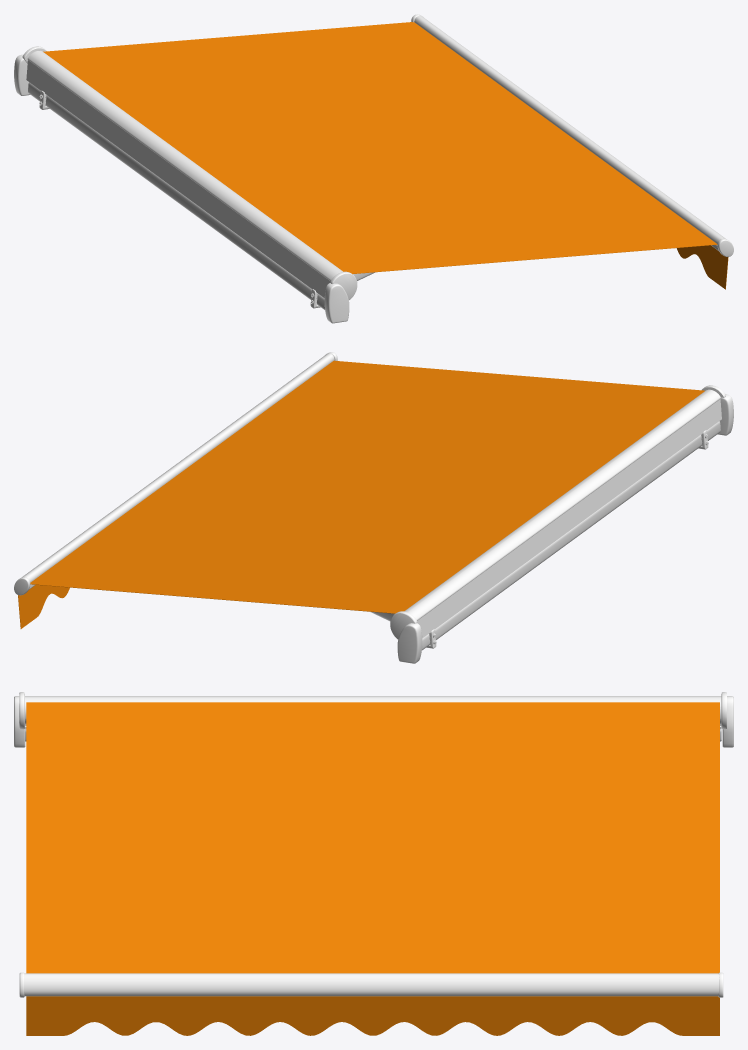
Rendered from Basic.glb.
The picture shows the model from 3 angles, top to bottom: view 1: azimuth 30°, elevation 25°; view 2: azimuth 150°, elevation 25°; view 3: azimuth 270°, elevation 25°; orthographic projection. The views are drawn at different scales.
Visible parts, largest first — view 1: Plane.001, Circle.009, Circle.001, Stem, Plane, Plane.002, Circle; view 2: Plane.001, Circle.009, Circle.001, Stem, Plane, Plane.002, Circle; view 3: Plane.001, Plane.002, Circle.001, Circle.009, Plane.
Part boxes in pixels (bbox=[...]): Plane.001: bbox=[43, 22, 717, 274]; Circle.009: bbox=[26, 51, 343, 297]; Circle.001: bbox=[411, 14, 733, 256]; Stem: bbox=[28, 82, 324, 309]; Plane: bbox=[14, 54, 349, 323]; Plane.002: bbox=[676, 245, 728, 289]; Circle: bbox=[22, 46, 357, 299]; Plane.001: bbox=[30, 360, 704, 613]; Circle.009: bbox=[404, 389, 721, 638]; Circle.001: bbox=[14, 352, 337, 595]; Stem: bbox=[422, 421, 720, 650]; Plane: bbox=[397, 394, 733, 663]; Plane.002: bbox=[18, 585, 69, 628]; Circle: bbox=[390, 385, 725, 639]; Plane.001: bbox=[26, 702, 719, 973]; Plane.002: bbox=[26, 996, 719, 1035]; Circle.001: bbox=[19, 972, 723, 997]; Circle.009: bbox=[25, 696, 721, 729]; Plane: bbox=[14, 696, 733, 747].
Bounding box in the file's own units: 2.99 × 0.7857 × 4.01.
3 materials, 1 textured.
